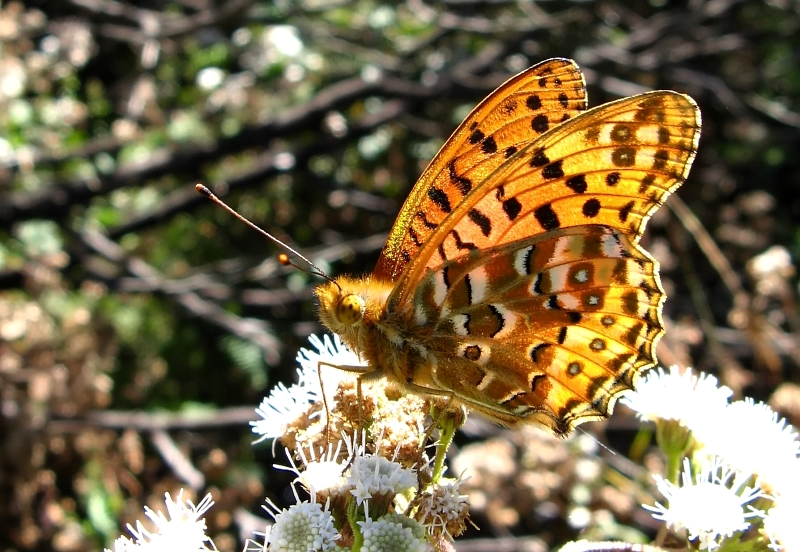Argyreus hyperbius: (183, 53, 705, 437)
butterfly: (185, 55, 707, 439)
